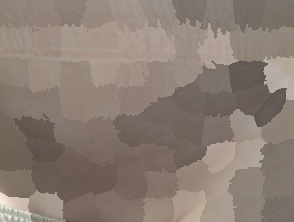vitiligo: (0, 8, 294, 222)
